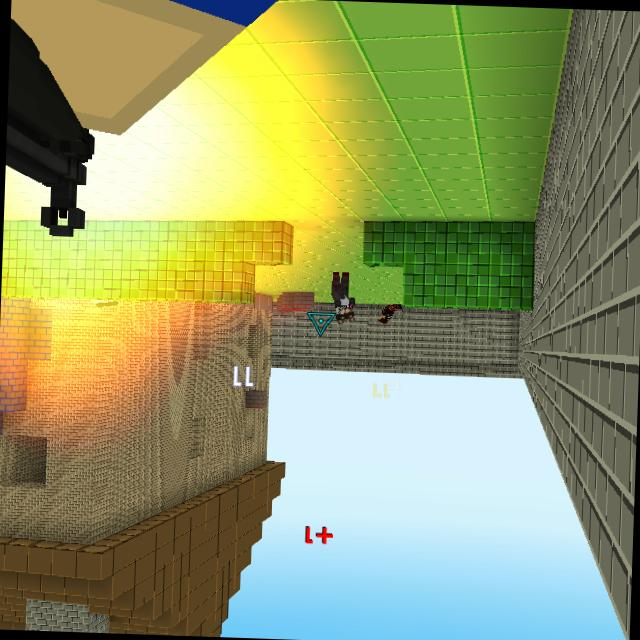enemy: (329, 270, 357, 326)
